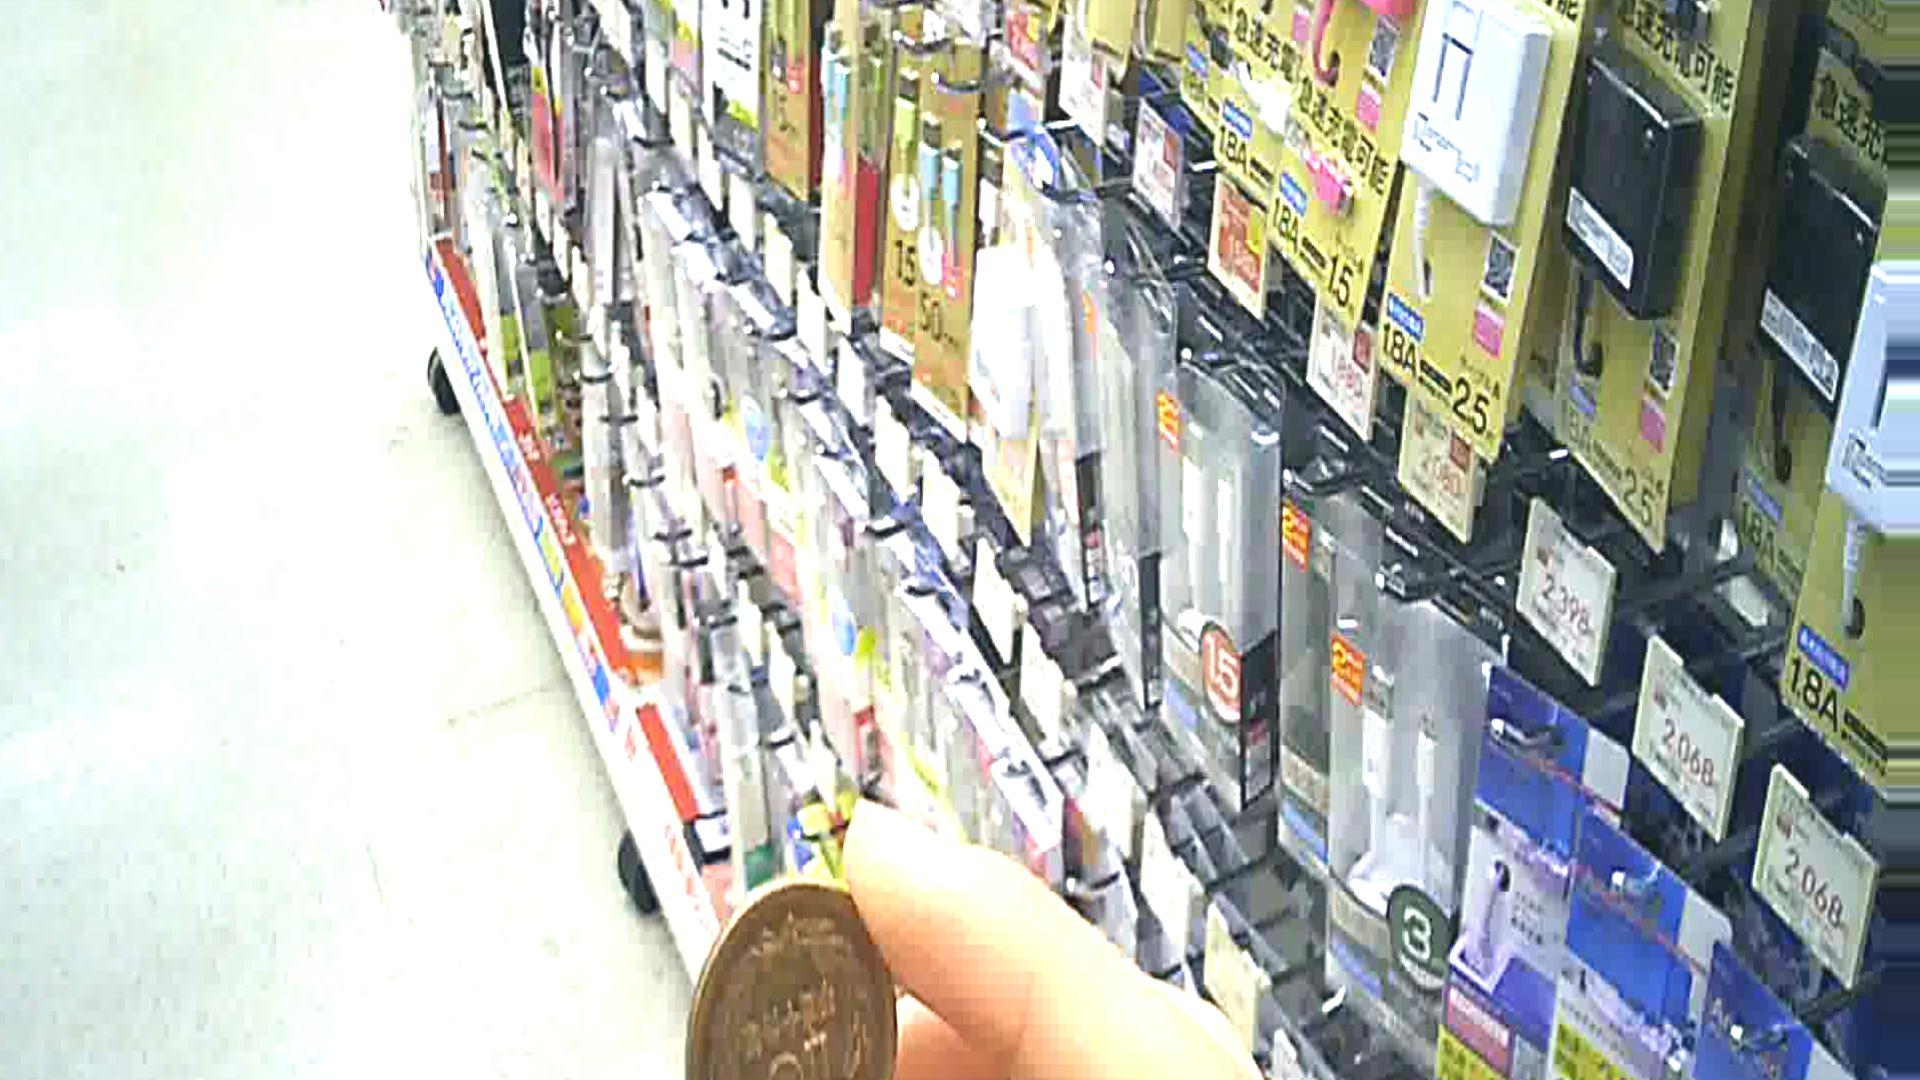10 Yen: (673, 893, 898, 1079)
